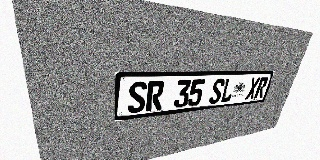3: (173, 80, 192, 108)
5: (187, 79, 205, 107)
L: (220, 78, 236, 103)
R: (146, 81, 165, 111), (254, 77, 269, 99)
S: (127, 81, 147, 114), (208, 79, 225, 104)
X: (245, 77, 260, 100)
